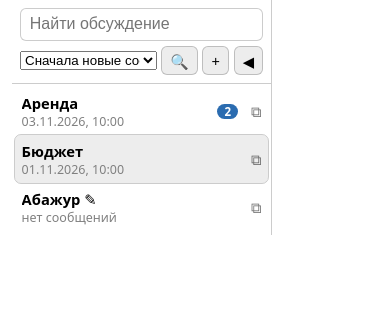
Test: discussion list (FR-221 to FR-225, code review TS-1) › the context menu of a discussion opens, archives and deletes it
Right-click the list item with test id "sidebar-item" showing "Аренда 03.11.2026, 10:00 2 ⧉".
right_click(142, 111)  # box [15,87,268,135]
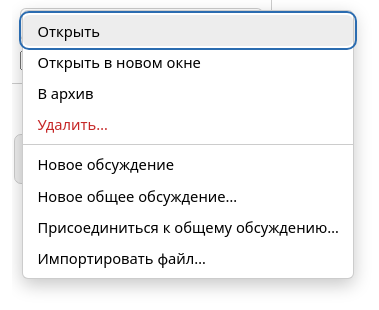
Click the menu item with test id "menu-archive".
click(65, 93)  # box [23,77,353,109]
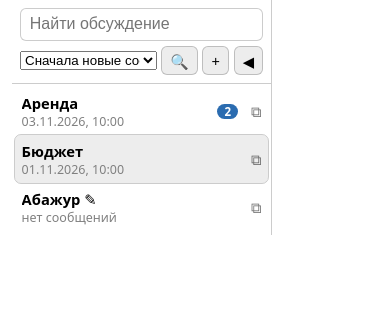
Right-click the list item with test id "sidebar-item" showing "Аренда 03.11.2026, 10:00 2 ⧉".
right_click(142, 111)  # box [15,87,268,135]
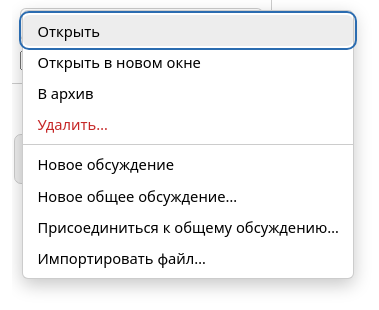
Click the menu item with test id "menu-delete".
click(73, 124)  # box [23,109,353,140]
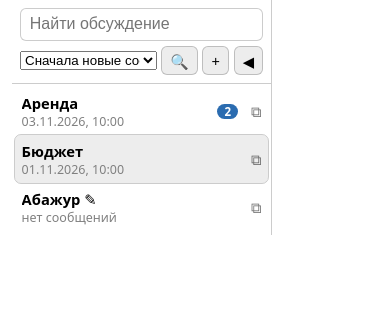
Right-click the list item with test id "sidebar-item" showing "Аренда 03.11.2026, 10:00 2 ⧉".
right_click(142, 111)  # box [15,87,268,135]
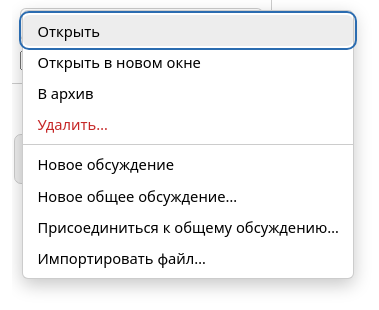
Press Escape in the menu with test id "context-menu"
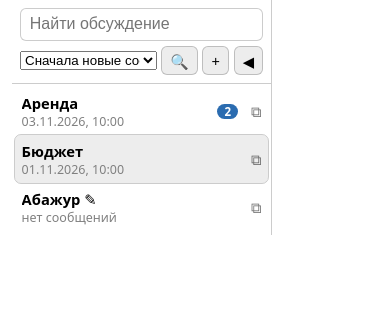
expect the menu with test id "context-menu" is gone: met
